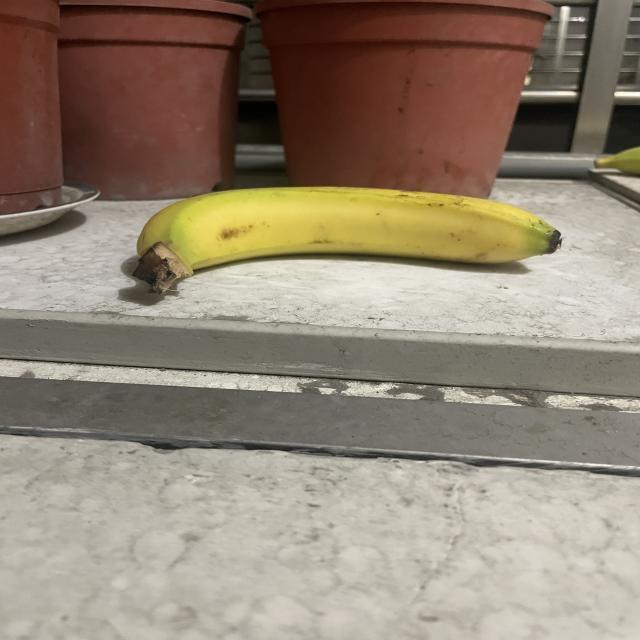Banana: (126, 178, 572, 300)
